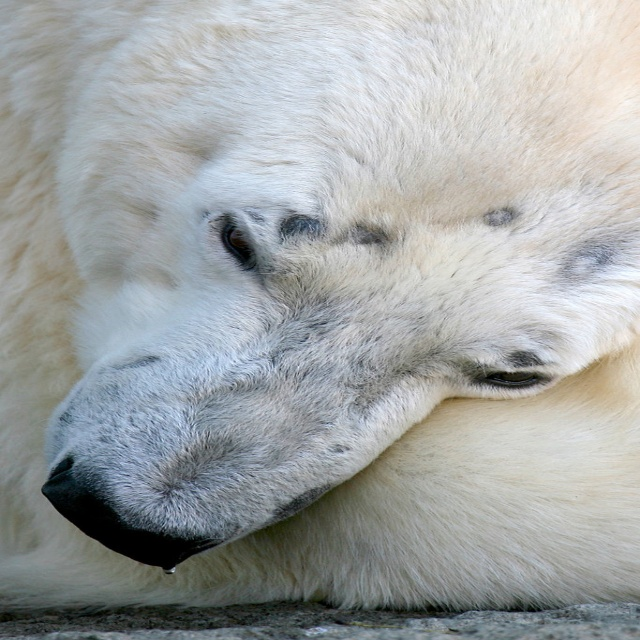Polar bear: (0, 0, 639, 611)
